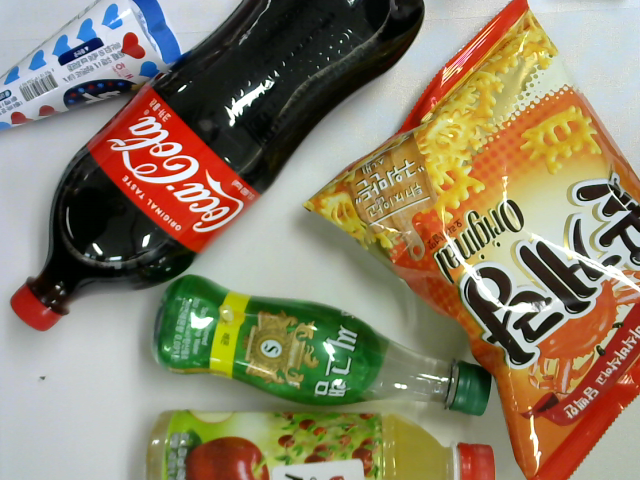Bravo_Cone_(Banila)_CVS: (1, 1, 191, 141)
Coca_Cola_1.5L: (4, 1, 440, 337)
Crabrang: (301, 1, 638, 480)
Morning_Apple_500ml: (128, 402, 501, 480)
Seagram_Lemon_Carbonated_Water: (141, 271, 500, 420)
